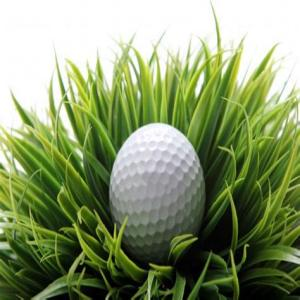Golf: (110, 121, 209, 254)
